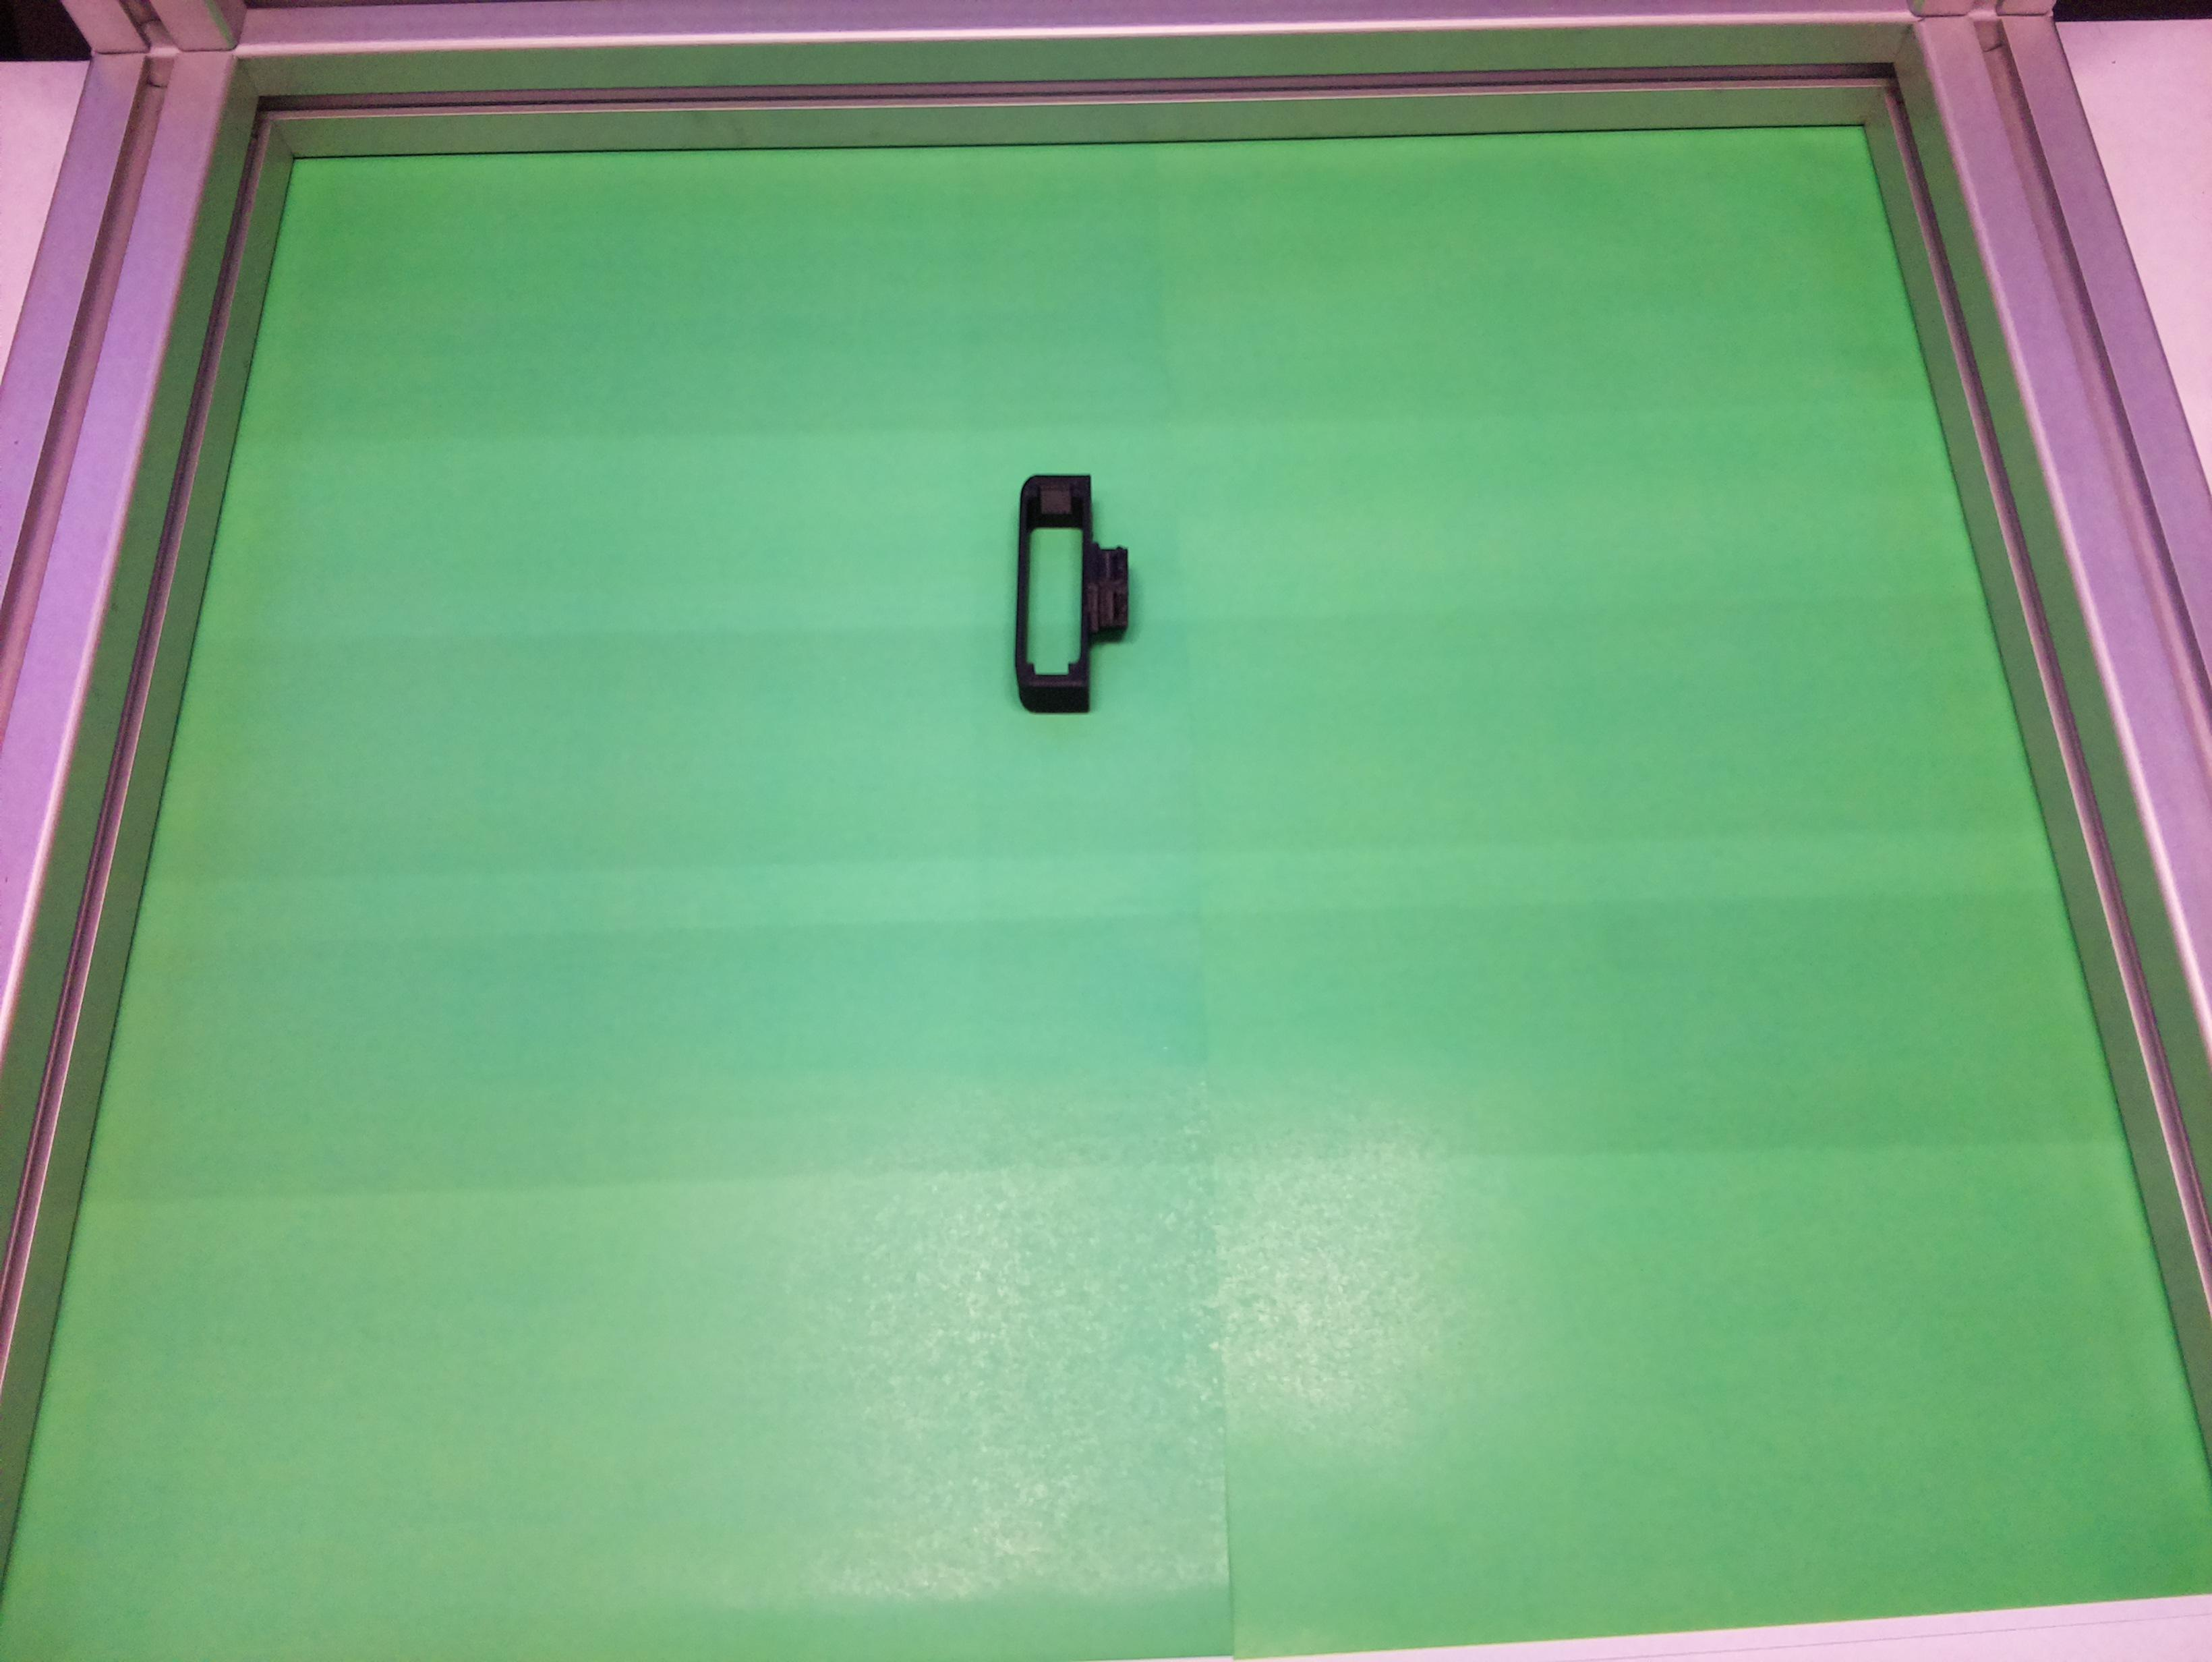cutter_holder: (1013, 475, 1130, 712)
